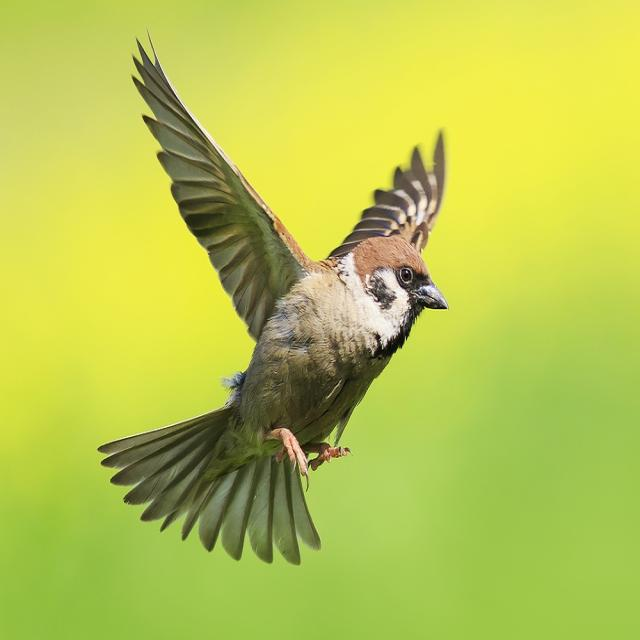bird: (107, 20, 447, 570)
